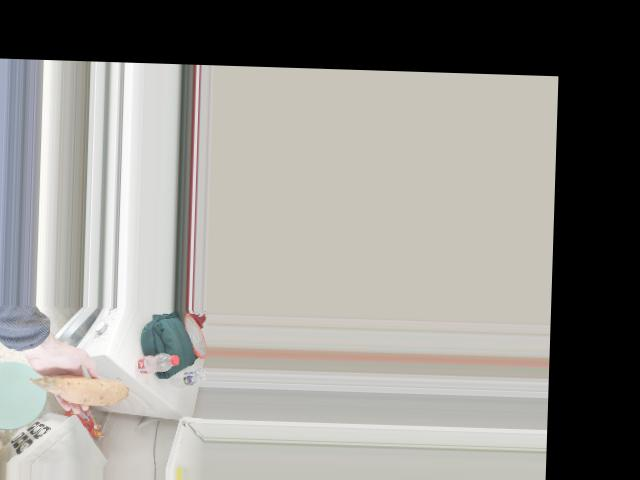sweet_potato: (34, 372, 121, 400)
